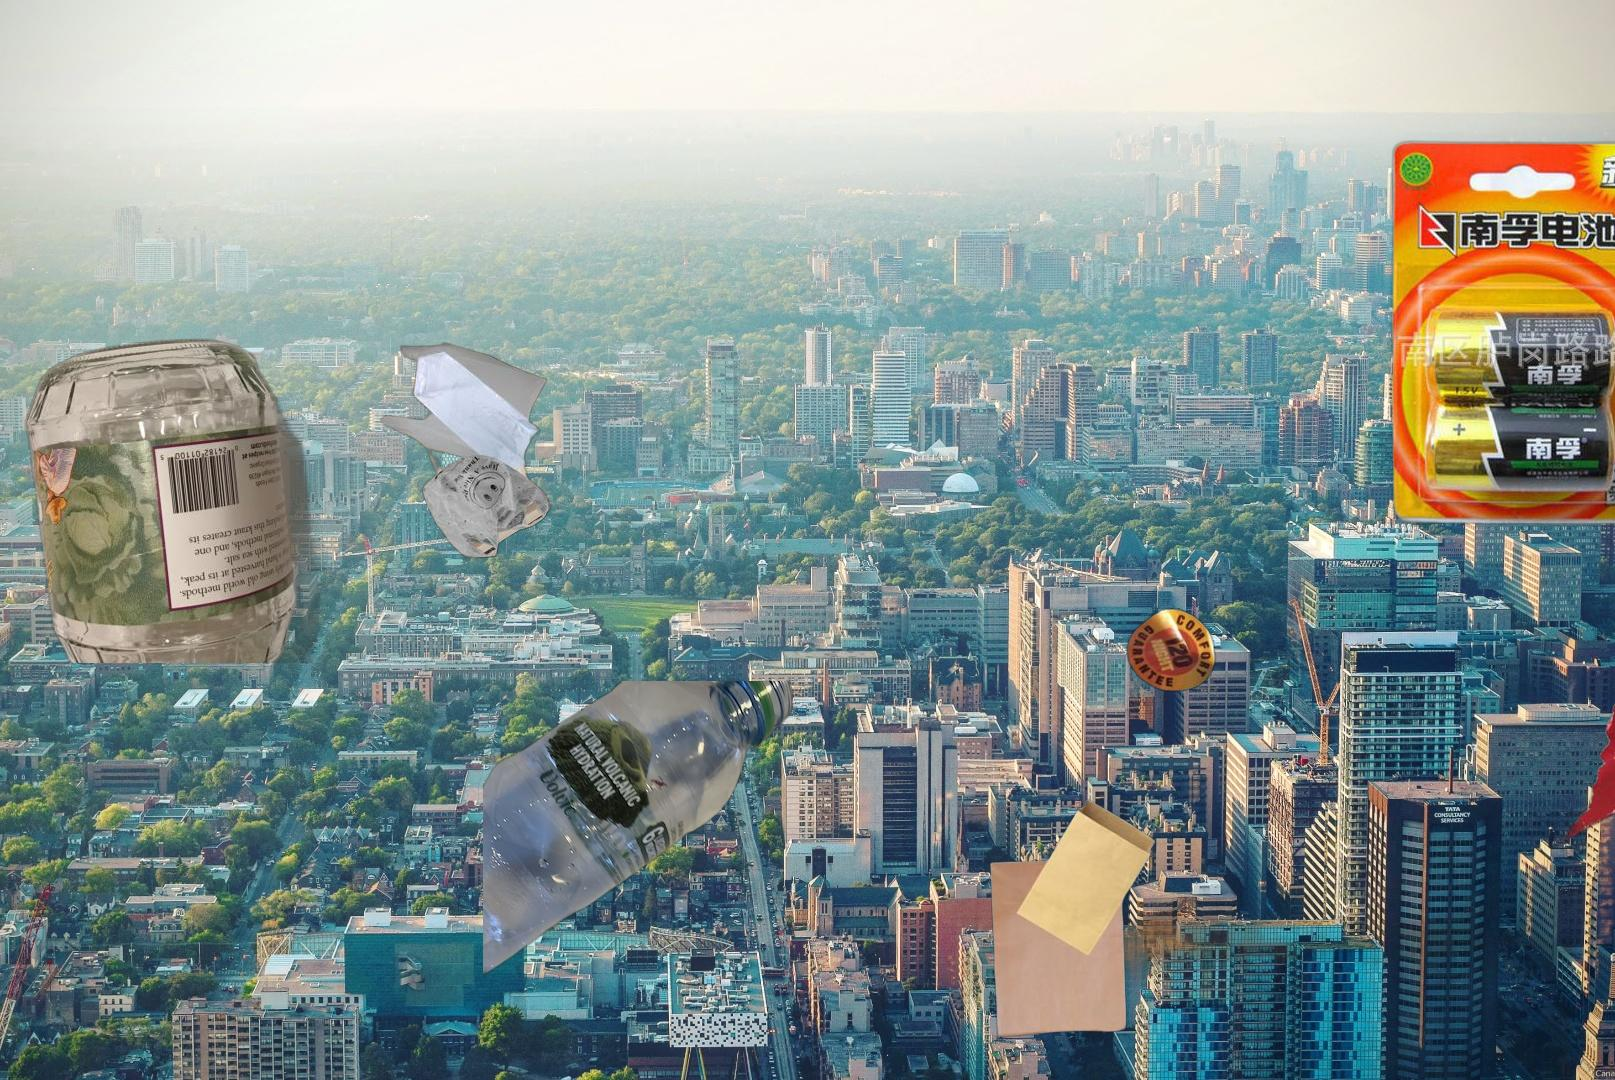battery: (1386, 137, 1615, 529)
glass: (22, 335, 330, 663)
paper: (1123, 605, 1451, 987), (1434, 538, 1615, 890)
paper-bag: (987, 797, 1157, 1040)
plastic-bag: (378, 269, 556, 563)
plastic-bottles: (483, 681, 795, 1080)
trashbox-cardboard: (961, 877, 1573, 1080)
